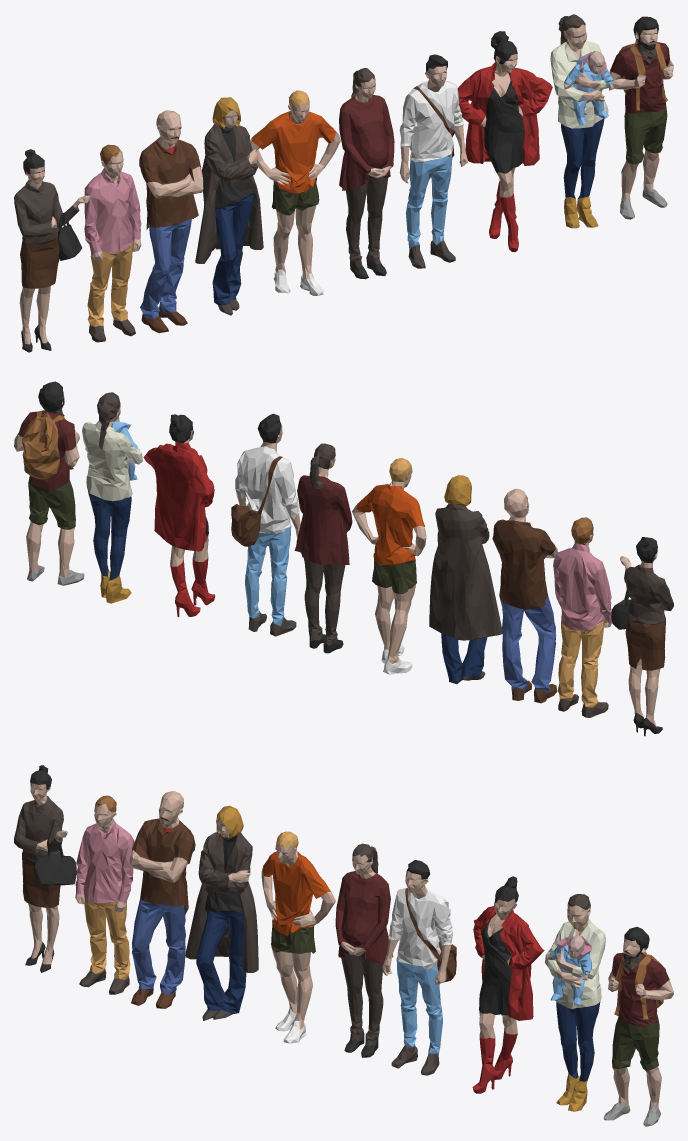
The model's file is coloredLowpolyPeople.FBX.
The picture shows the model from 3 angles, top to bottom: view 1: azimuth 30°, elevation 25°; view 2: azimuth 150°, elevation 25°; view 3: azimuth 330°, elevation 25°; orthographic projection.
Visible parts, largest first — view 1: lowpolyPeopleCasualWoman_ncl1_4, lowpolyPeopleCasualWoman_ncl1_1, lowpolyPeopleCasualMan, lowpolyPeopleCasualMan_ncl1_1, lowpolyPeopleSportsMan, lowpolyPeopleCasualWoman, lowpolyPeopleCasualWoman_ncl1_2, lowpolyPeopleCasualMan_ncl1_2, lowpolyPeopleCasualMan_ncl1_3, lowpolyPeopleCasualWoman_ncl1_3; view 2: lowpolyPeopleCasualWoman_ncl1_1, lowpolyPeopleCasualMan_ncl1_1, lowpolyPeopleCasualMan, lowpolyPeopleSportsMan, lowpolyPeopleCasualWoman_ncl1_4, lowpolyPeopleCasualMan_ncl1_3, lowpolyPeopleCasualMan_ncl1_2, lowpolyPeopleCasualWoman_ncl1_2, lowpolyPeopleCasualWoman, lowpolyPeopleCasualWoman_ncl1_3; view 3: lowpolyPeopleCasualWoman_ncl1_1, lowpolyPeopleCasualMan, lowpolyPeopleCasualMan_ncl1_1, lowpolyPeopleCasualWoman_ncl1_4, lowpolyPeopleSportsMan, lowpolyPeopleCasualWoman_ncl1_2, lowpolyPeopleCasualWoman, lowpolyPeopleCasualMan_ncl1_2, lowpolyPeopleCasualMan_ncl1_3, lowpolyPeopleCasualWoman_ncl1_3.
Boxes of the visible parts, box(x1,y1,x2,y2) form: lowpolyPeopleCasualWoman_ncl1_4: box(458, 31, 552, 252); lowpolyPeopleCasualWoman_ncl1_1: box(195, 97, 263, 315); lowpolyPeopleCasualMan: box(139, 110, 203, 333); lowpolyPeopleCasualMan_ncl1_1: box(399, 54, 467, 268); lowpolyPeopleSportsMan: box(250, 90, 340, 295); lowpolyPeopleCasualWoman: box(550, 14, 613, 228); lowpolyPeopleCasualWoman_ncl1_2: box(339, 68, 394, 279); lowpolyPeopleCasualMan_ncl1_2: box(84, 144, 141, 342); lowpolyPeopleCasualMan_ncl1_3: box(609, 16, 673, 219); lowpolyPeopleCasualWoman_ncl1_3: box(14, 149, 92, 352); lowpolyPeopleCasualWoman_ncl1_1: box(429, 475, 502, 683); lowpolyPeopleCasualMan_ncl1_1: box(231, 413, 300, 636); lowpolyPeopleCasualMan: box(492, 488, 557, 703); lowpolyPeopleSportsMan: box(352, 458, 426, 674); lowpolyPeopleCasualWoman_ncl1_4: box(143, 414, 215, 616); lowpolyPeopleCasualMan_ncl1_3: box(14, 381, 84, 585); lowpolyPeopleCasualMan_ncl1_2: box(553, 517, 611, 717); lowpolyPeopleCasualWoman_ncl1_2: box(294, 443, 352, 653); lowpolyPeopleCasualWoman: box(82, 392, 142, 603); lowpolyPeopleCasualWoman_ncl1_3: box(611, 537, 673, 736); lowpolyPeopleCasualWoman_ncl1_1: box(185, 805, 258, 1020); lowpolyPeopleCasualMan: box(129, 791, 195, 1008); lowpolyPeopleCasualMan_ncl1_1: box(382, 860, 456, 1075); lowpolyPeopleCasualWoman_ncl1_4: box(472, 876, 544, 1093); lowpolyPeopleSportsMan: box(261, 831, 335, 1043); lowpolyPeopleCasualWoman_ncl1_2: box(335, 843, 393, 1057); lowpolyPeopleCasualWoman: box(545, 894, 605, 1111); lowpolyPeopleCasualMan_ncl1_2: box(75, 795, 134, 994); lowpolyPeopleCasualMan_ncl1_3: box(603, 927, 673, 1126); lowpolyPeopleCasualWoman_ncl1_3: box(14, 765, 76, 972).
Size of the model in its own units: 528 by 162 by 50.24.
